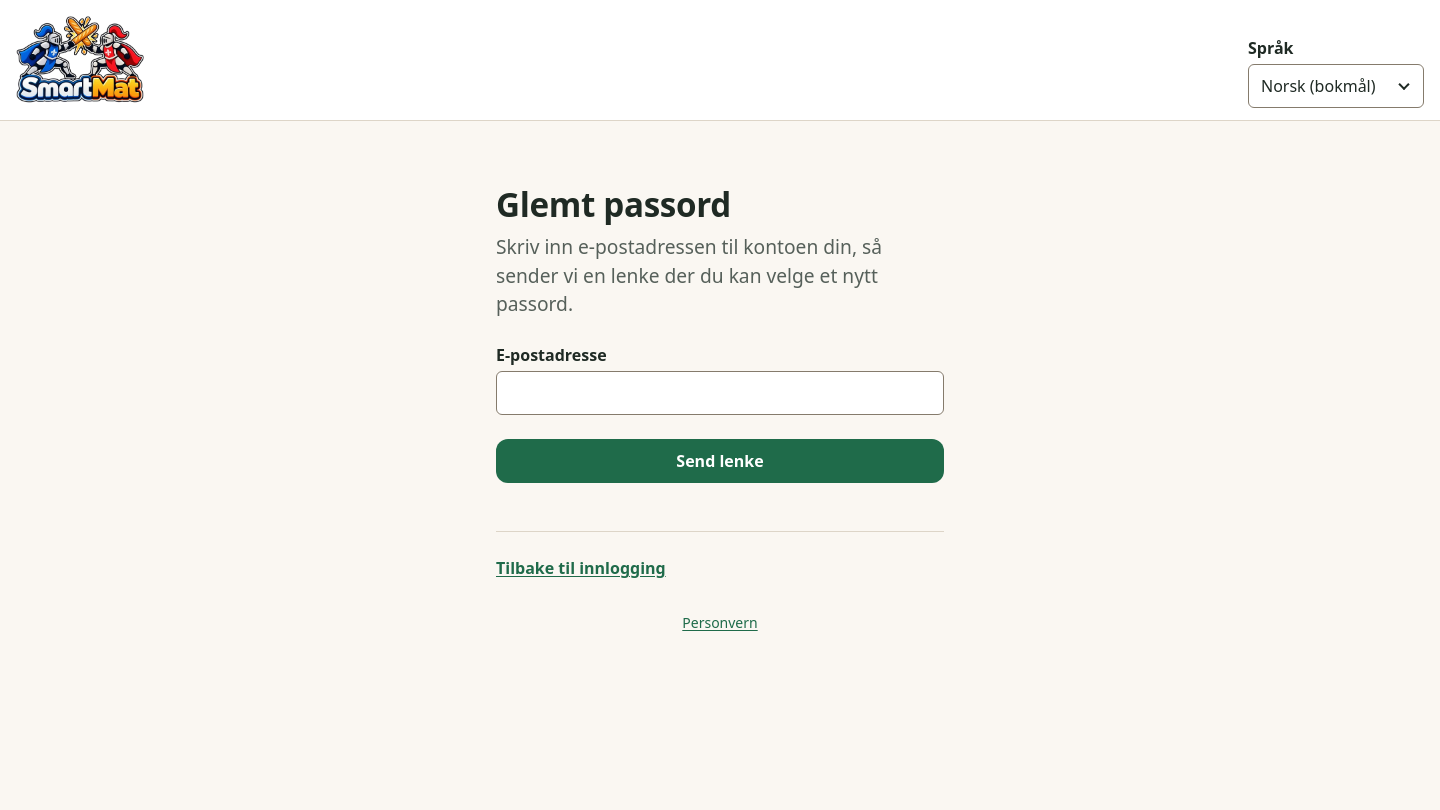
FR-AUTH-006a "Glemt passord" › sends the address and says "if the address has an account", whatever the answer means
Type " Kari@Example.test " into the field labelled "E-postadresse". click: (720, 393)
box: left=496, top=371, right=944, bottom=415
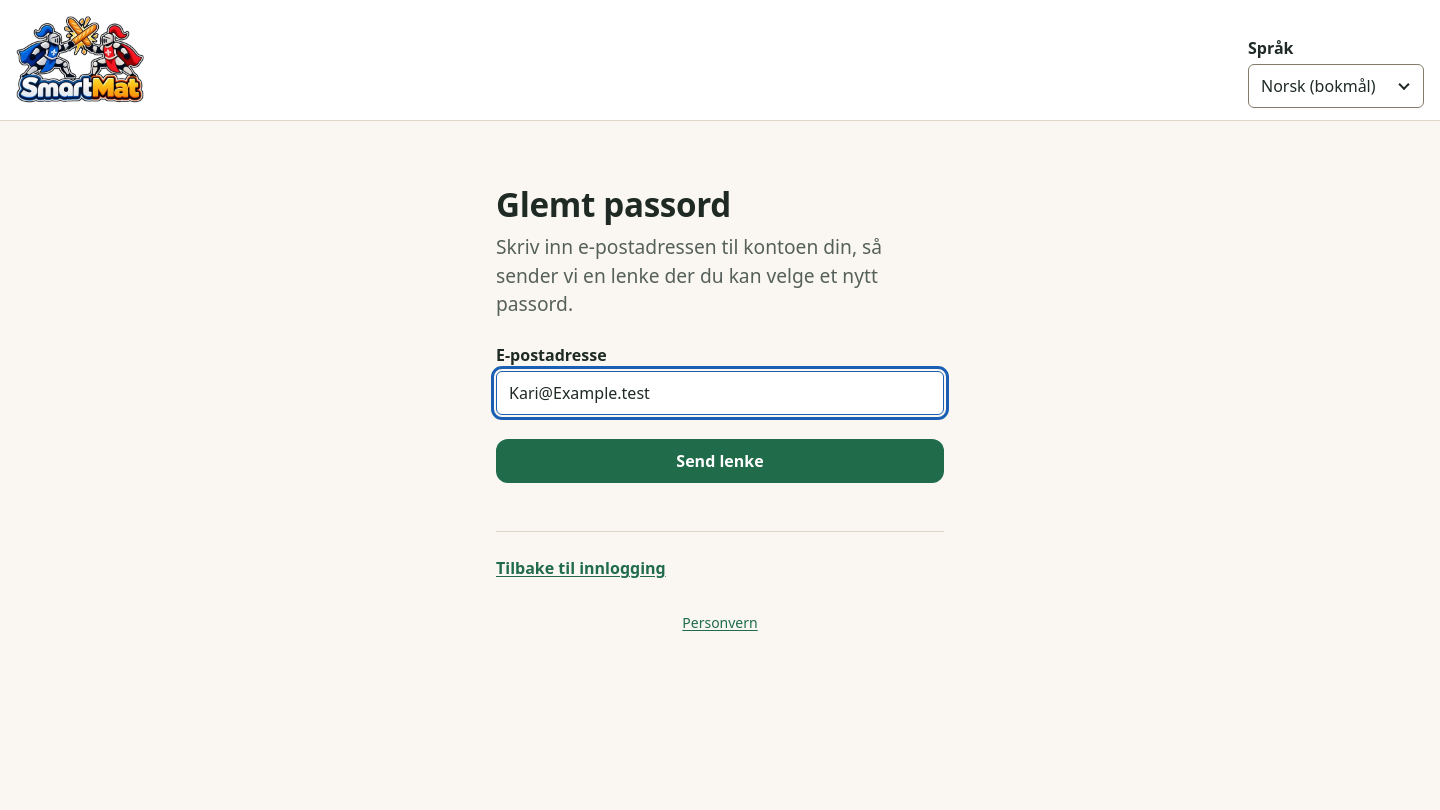
Click the button "Send lenke". click: (720, 461)
box: left=496, top=439, right=944, bottom=483
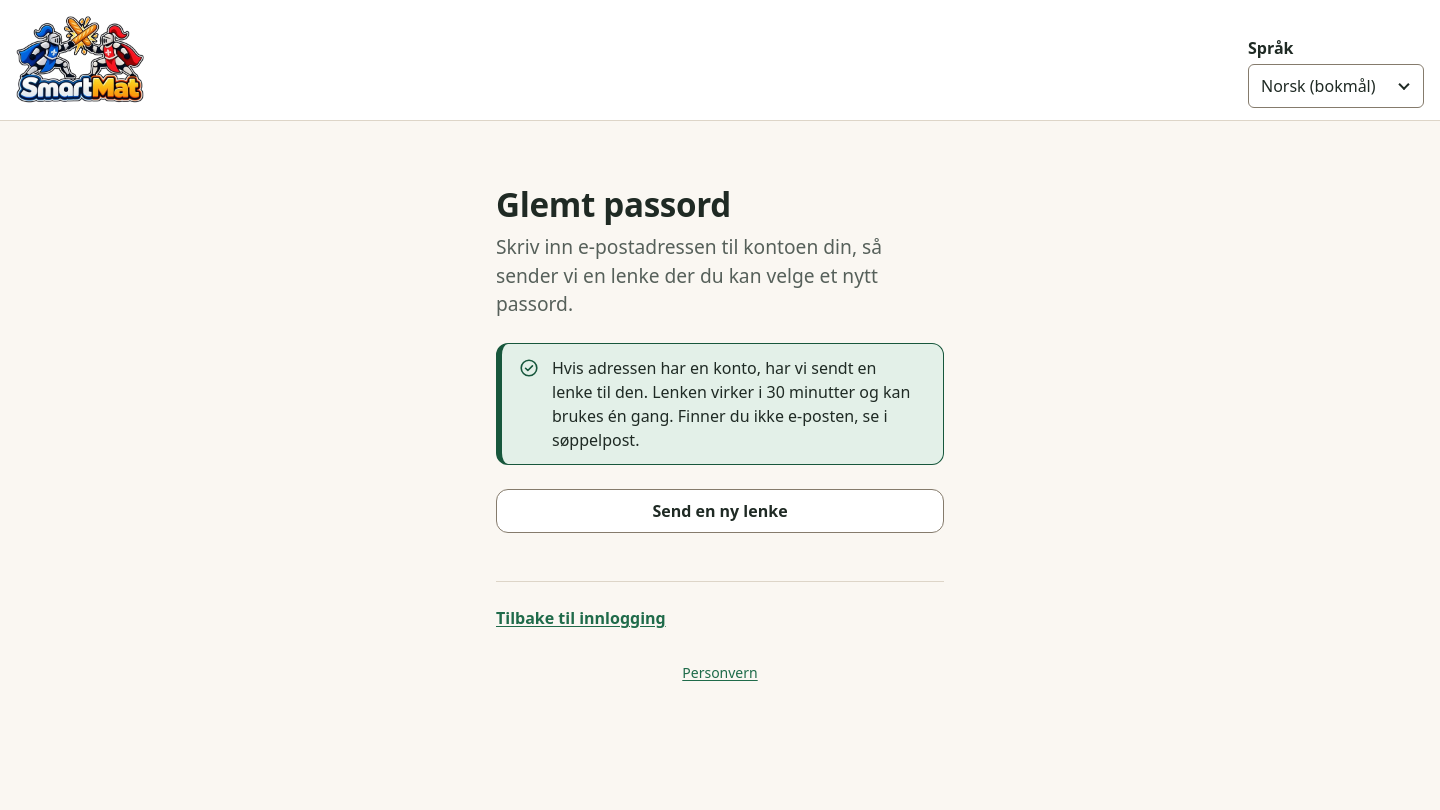
Expected: the message shows "Hvis adressen har en konto, har vi sendt en lenke", left=552, top=357, right=910, bottom=451
Expected: the message shows "30 minutter", left=552, top=357, right=910, bottom=451
Click the button "Send en ny lenke". click: (720, 511)
box: left=496, top=489, right=944, bottom=533
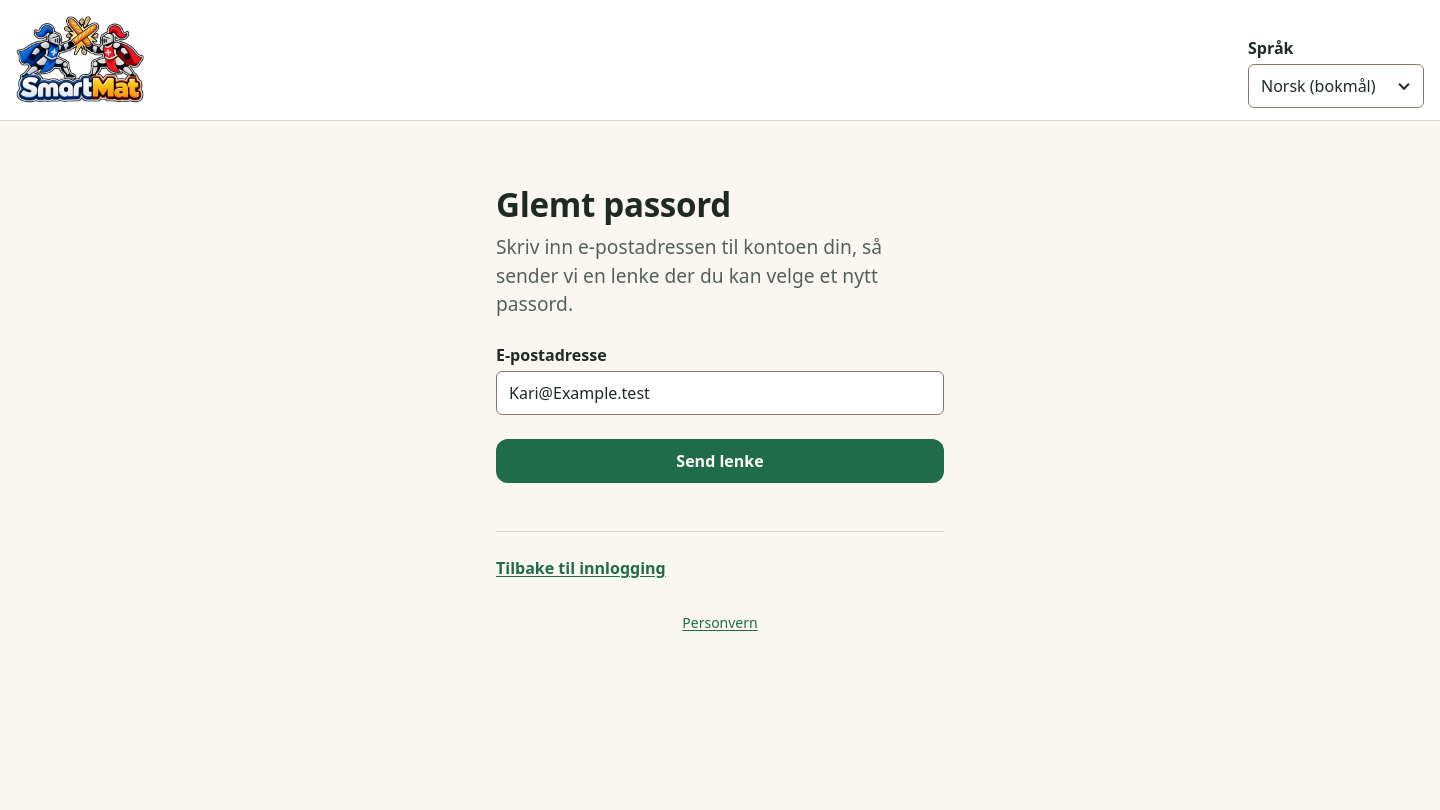
Expected: the field labelled "E-postadresse" is shown, left=496, top=371, right=944, bottom=415
